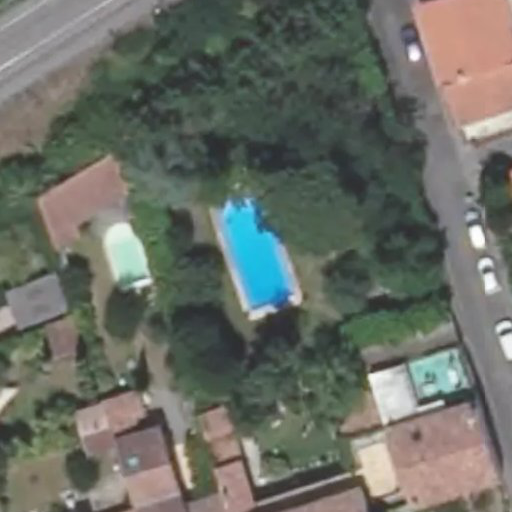pool: (206, 190, 306, 293)
